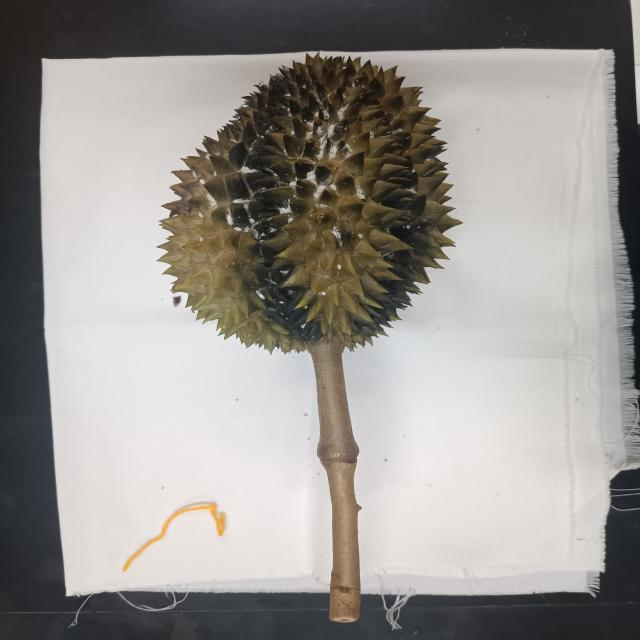defective: (159, 50, 460, 352)
